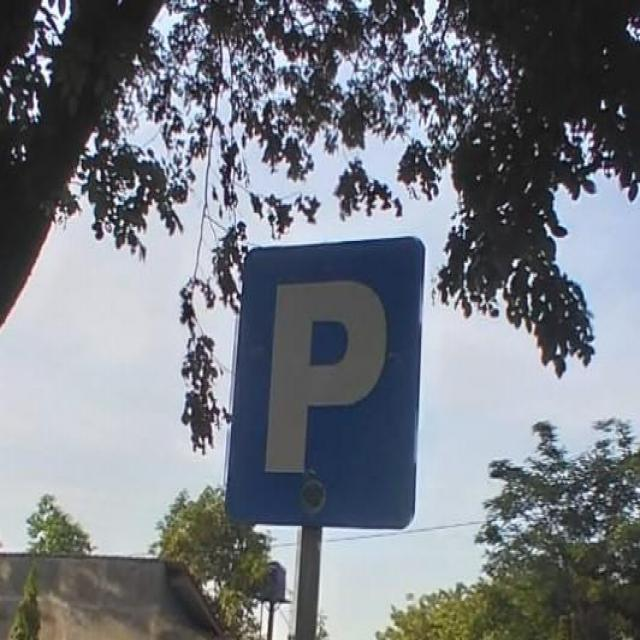traffic sign: (226, 238, 424, 534)
